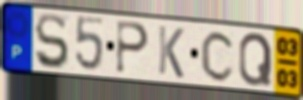5: (74, 14, 105, 75)
C: (199, 29, 237, 84)
K: (156, 23, 185, 80)
P: (115, 19, 151, 77)
Q: (237, 30, 274, 88)
S: (33, 12, 71, 72)
